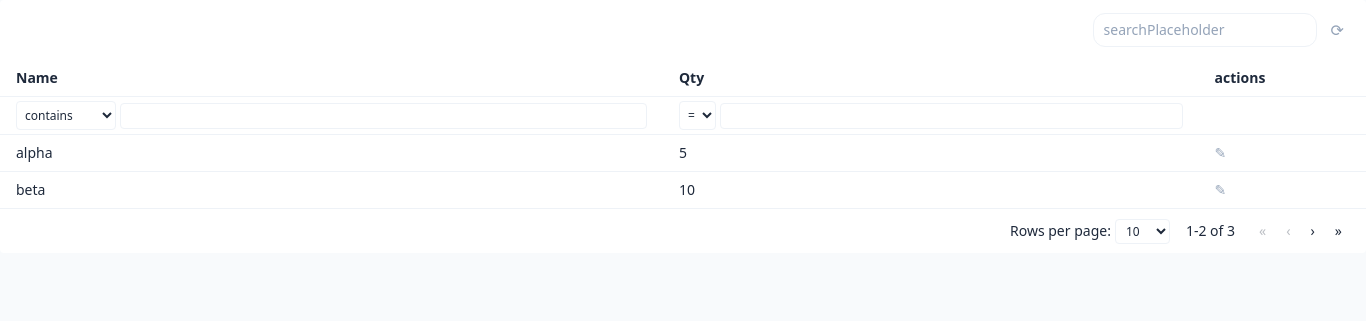
Test: Table › inline edit blocks save on required column failure
This screenshot has width=1366, height=321.
Click the button titled "editTooltip" in the row of "alpha" at (1220, 153), box [1215,143,1226,163]
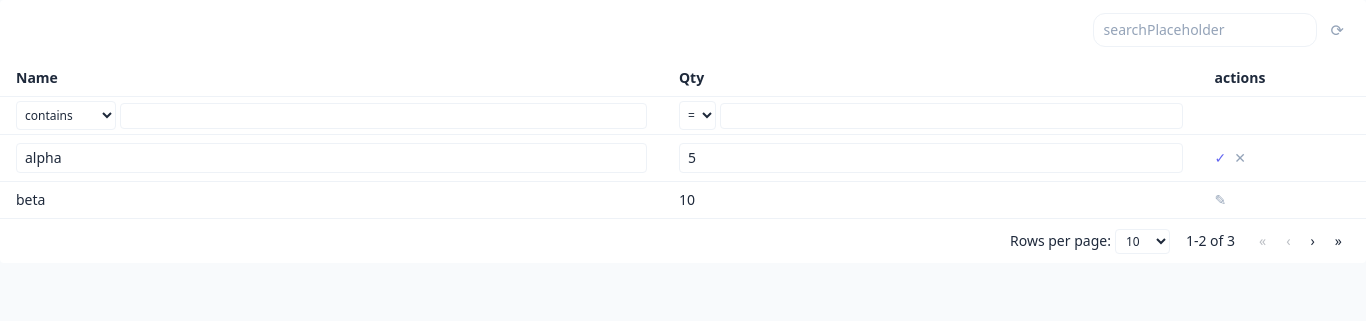
Clear the field showing "alpha" at (332, 158), box [16,143,647,173]
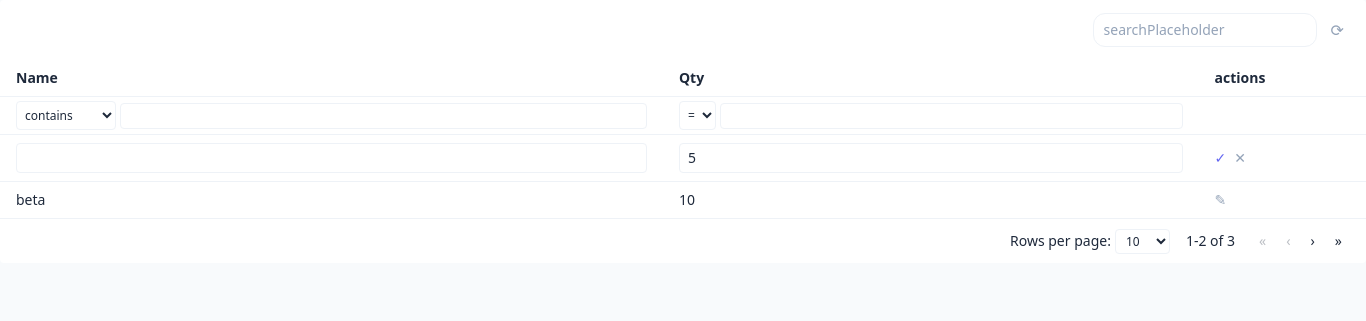
Click the button titled "saveTooltip" at (1220, 158), box [1215,148,1226,168]
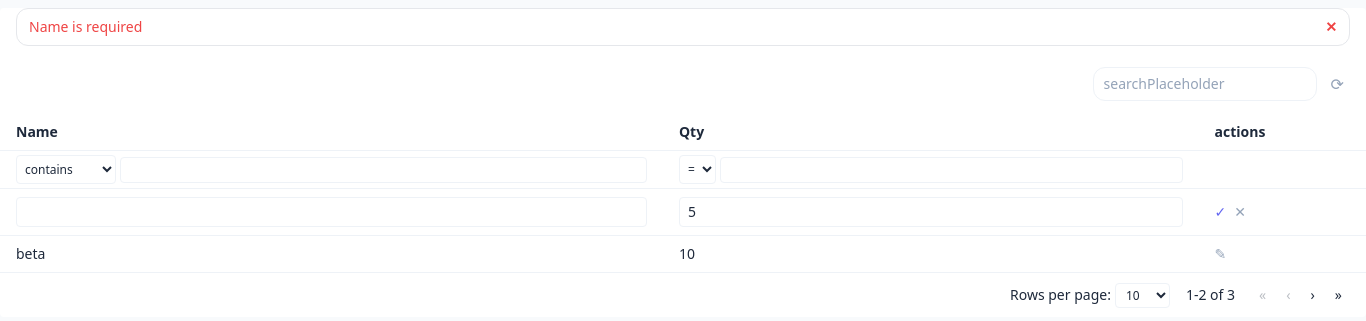
Expected: the message shows "Name is required", [29,17,142,36]
